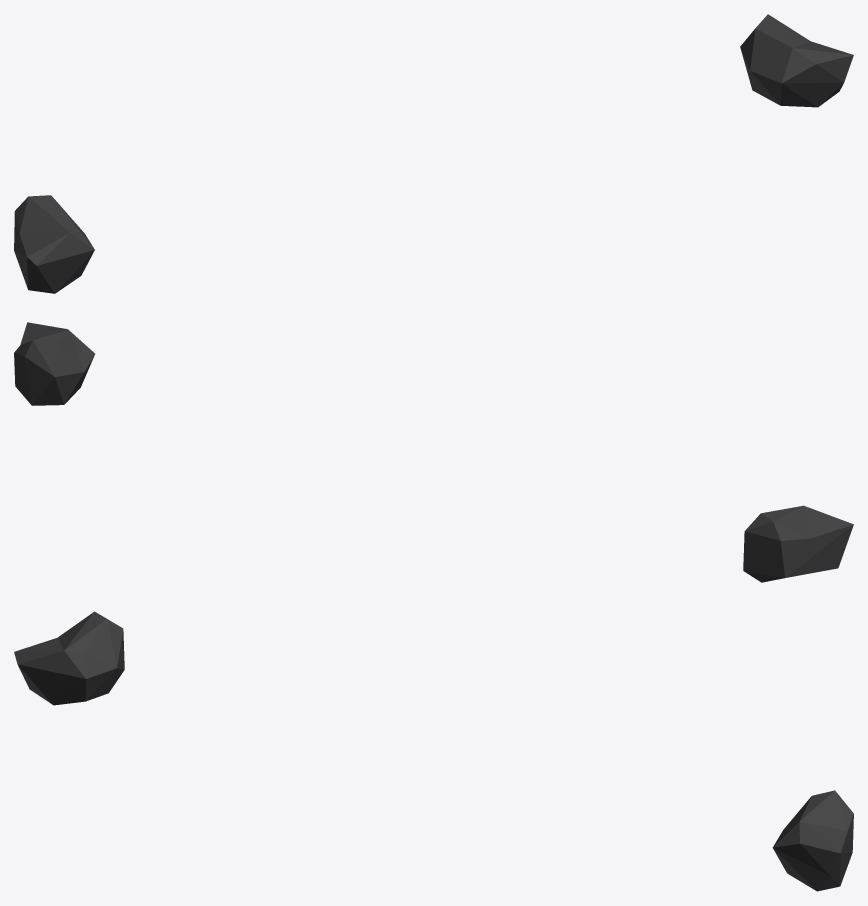
The model's file is Carpal_third.glb.
The picture shows the model from 3 angles, top to bottom: view 1: azimuth 30°, elevation 25°; view 2: azimuth 150°, elevation 25°; view 3: azimuth 330°, elevation 25°; orthographic projection.
Visible parts, largest first — view 1: Carpal_third; view 2: Carpal_third; view 3: Carpal_third.
Part boxes in pixels (x1,y1,x2,y2): Carpal_third: (14, 14, 853, 293); Carpal_third: (14, 322, 853, 582); Carpal_third: (14, 611, 853, 891).
Bounding box in the file's own units: 0.00332 × 0.000278 × 0.00033.
1 material, 1 textured.
